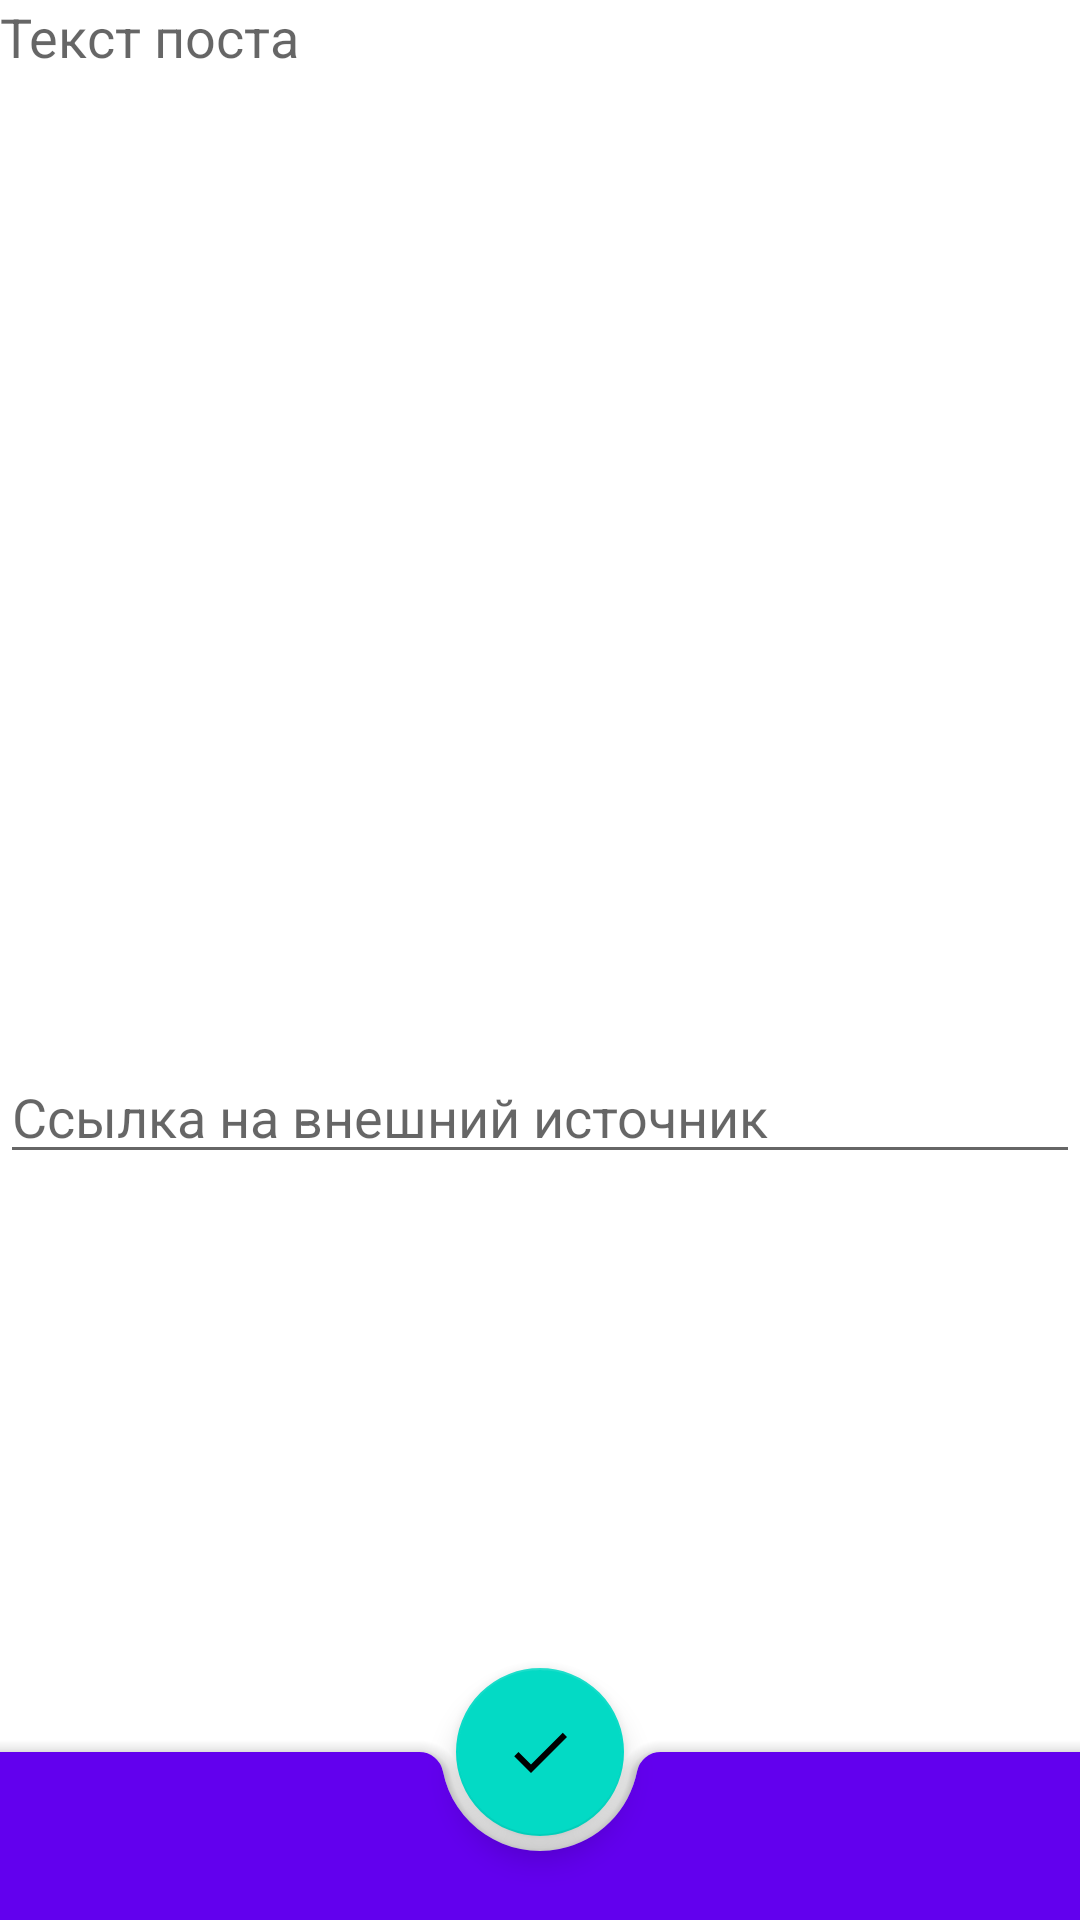

Where to tap for icons on this 1080×1920 app screen, as (x,y):
save: (540,1752)
